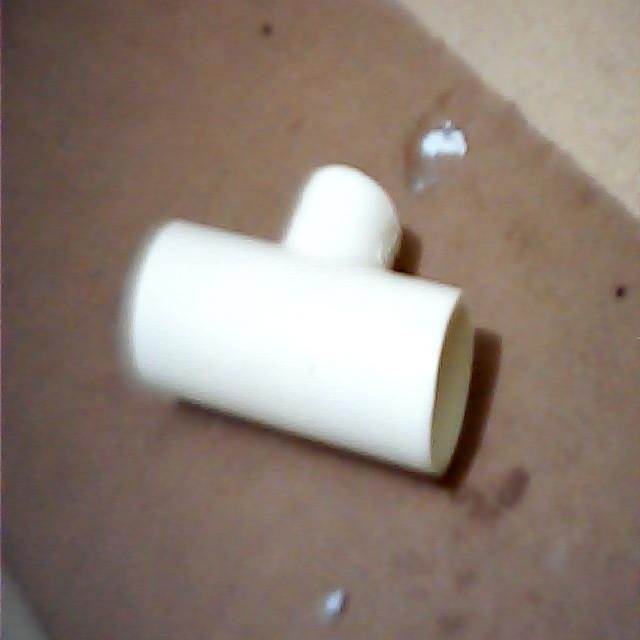T Joint: (116, 165, 476, 483)
